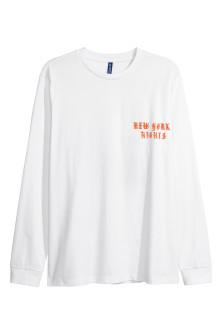teeshirt: (7, 45, 220, 313)
